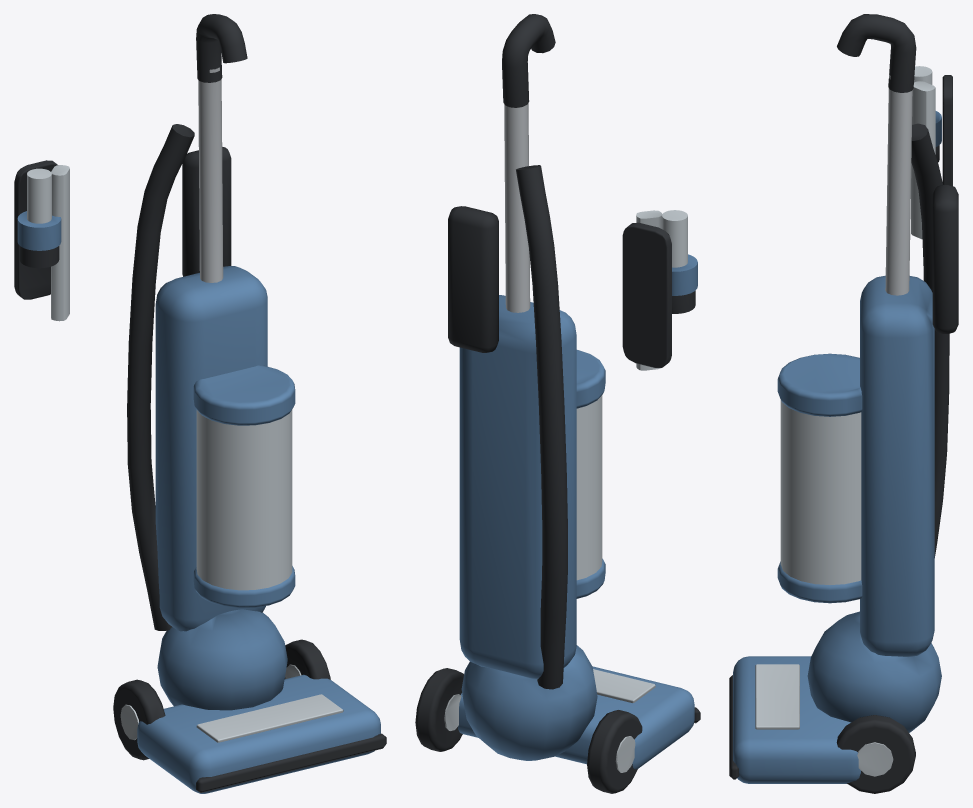
File: vacuumCleaner.glb
The picture shows the model from 3 angles, left to right: view 1: azimuth 30°, elevation 25°; view 2: azimuth 150°, elevation 25°; view 3: azimuth 270°, elevation 25°; orthographic projection. The views are drawn at different scales.
Visible parts, largest first — view 1: vacuum, body; view 2: vacuum, body; view 3: vacuum, body.
Boxes of the visible parts, x1=… form: vacuum: x1=113, y1=14, x2=386, y2=793; body: x1=14, y1=160, x2=69, y2=321; vacuum: x1=415, y1=14, x2=700, y2=793; body: x1=622, y1=210, x2=697, y2=370; vacuum: x1=729, y1=14, x2=958, y2=793; body: x1=911, y1=66, x2=952, y2=239.
Size of the model in its own units: 0.435 by 1.09 by 0.3075.
